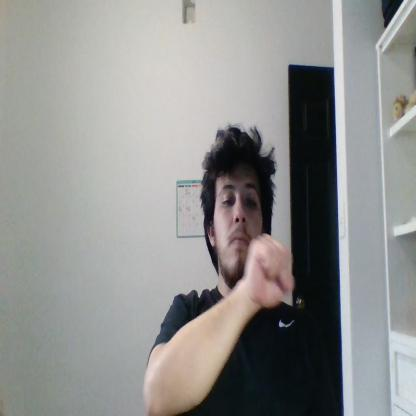S: (245, 234, 294, 307)
